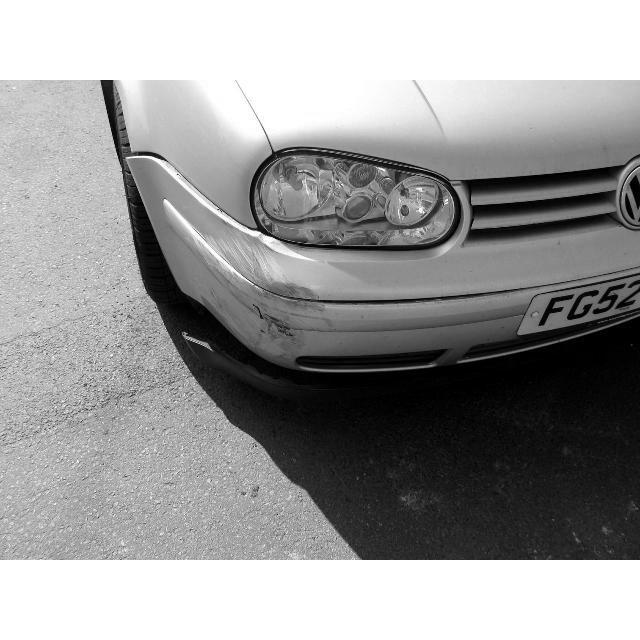front-bumper-dent: (187, 235, 478, 372)
